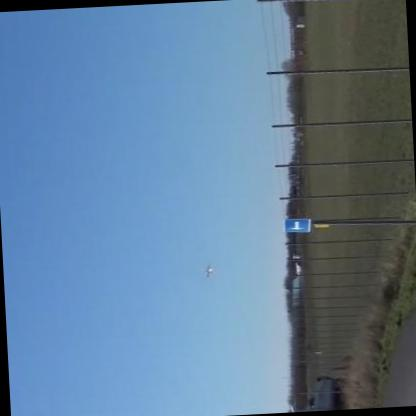plane: (202, 262, 215, 279)
